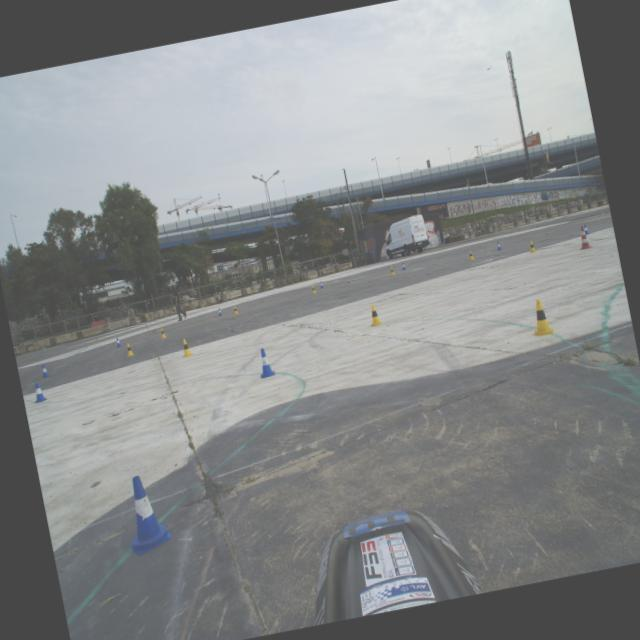blue_cone: (117, 472, 175, 556), (255, 346, 276, 378), (30, 382, 49, 404), (39, 364, 51, 378), (114, 337, 122, 348), (495, 241, 502, 251), (584, 224, 590, 235), (400, 262, 407, 270), (217, 308, 223, 316), (319, 280, 325, 288)
large_orange_cone: (575, 225, 593, 250)
yellow_cone: (526, 296, 557, 338), (367, 303, 382, 327), (179, 338, 194, 357), (124, 342, 134, 358), (528, 240, 538, 253), (158, 327, 168, 339), (467, 250, 475, 261), (232, 306, 240, 316), (388, 266, 396, 276), (310, 285, 317, 294)
